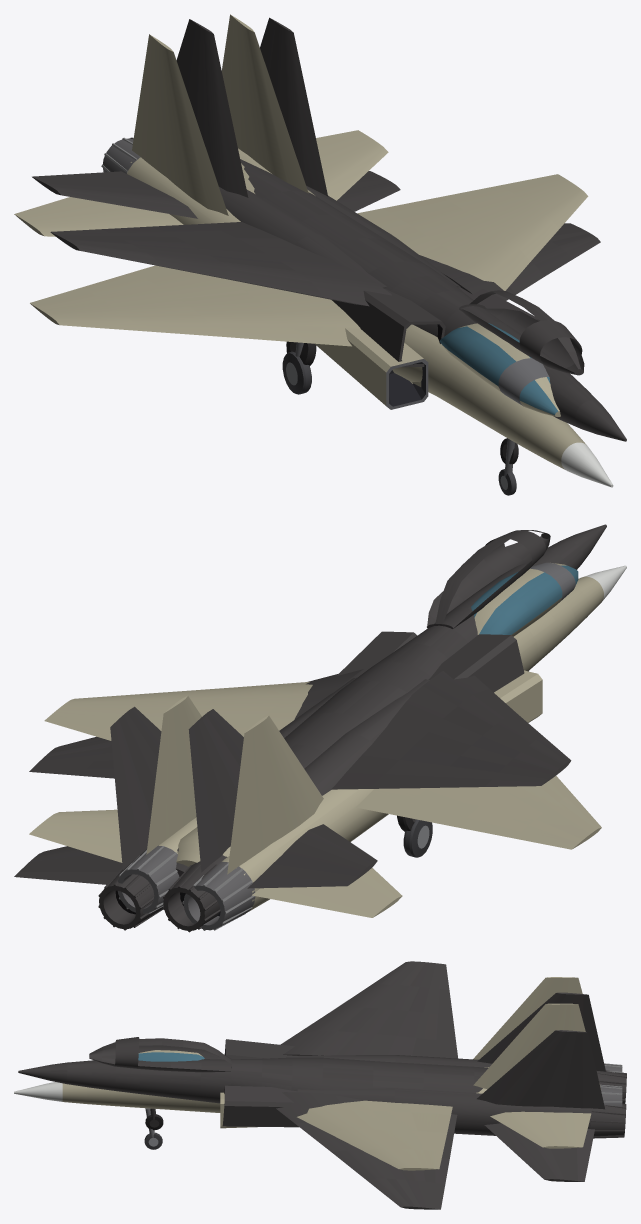
Rendered from jet__f_15d_baz.glb.
3 renders of one model, top to bottom at view 1: azimuth 30°, elevation 25°; view 2: azimuth 150°, elevation 25°; view 3: azimuth 270°, elevation 25°, orthographic. The views are drawn at different scales.
Parts seen in each view (by area): view 1: Fuselage_Mesh, Wreck; view 2: Wreck, Fuselage_Mesh; view 3: Wreck, Fuselage_Mesh.
Boxes of the visible parts, x1,y1,x2,y2 form: Fuselage_Mesh: [14, 14, 613, 495]; Wreck: [32, 17, 626, 464]; Wreck: [14, 524, 606, 932]; Fuselage_Mesh: [29, 562, 626, 930]; Wreck: [18, 961, 626, 1209]; Fuselage_Mesh: [14, 977, 622, 1170].
Size of what is drawn, in the model's own units: 13.4 by 5.61 by 19.63.
